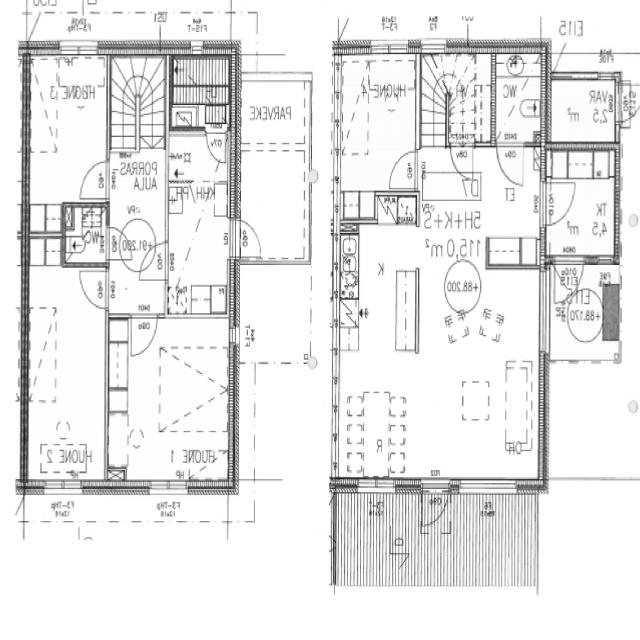door: (540, 183, 576, 227), (422, 480, 449, 534), (555, 255, 583, 306), (229, 220, 266, 257), (139, 241, 169, 280), (131, 313, 157, 357), (498, 141, 524, 184), (391, 152, 420, 189), (81, 272, 110, 308), (81, 163, 110, 199), (615, 85, 640, 123), (106, 226, 132, 258), (206, 126, 226, 166), (450, 142, 472, 178)
